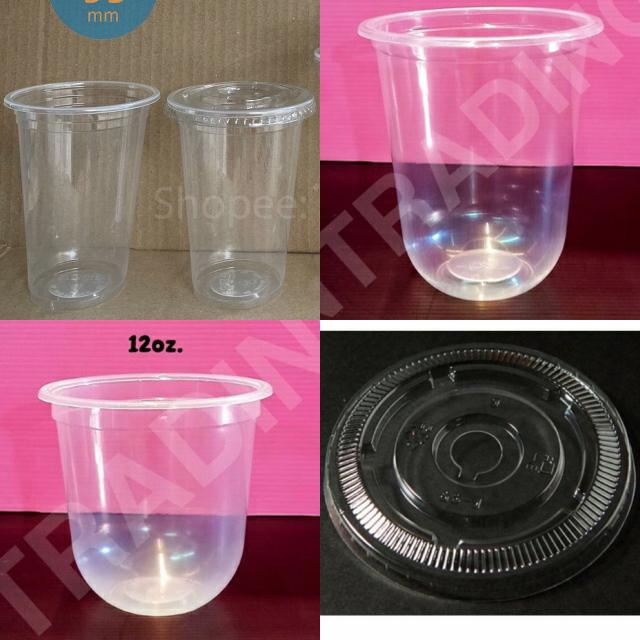Single-Use-Plastic: (324, 344, 635, 599), (358, 8, 604, 301), (39, 374, 271, 616), (5, 81, 160, 310), (165, 81, 315, 308)
